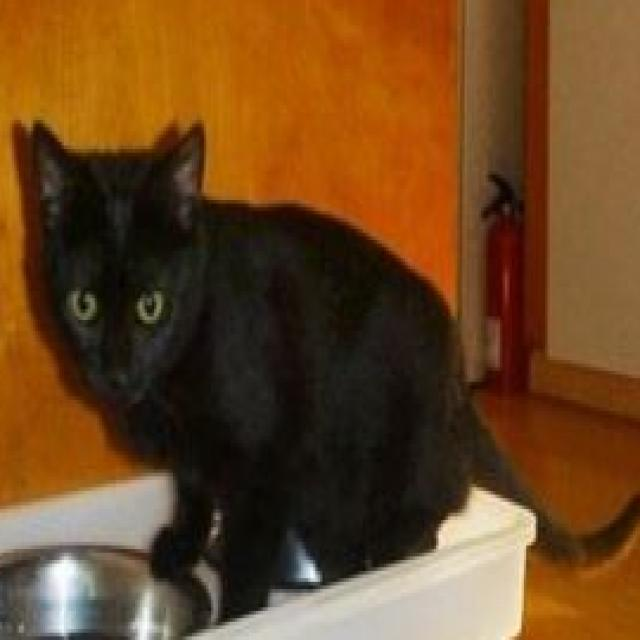Bombay: (28, 105, 640, 633)
